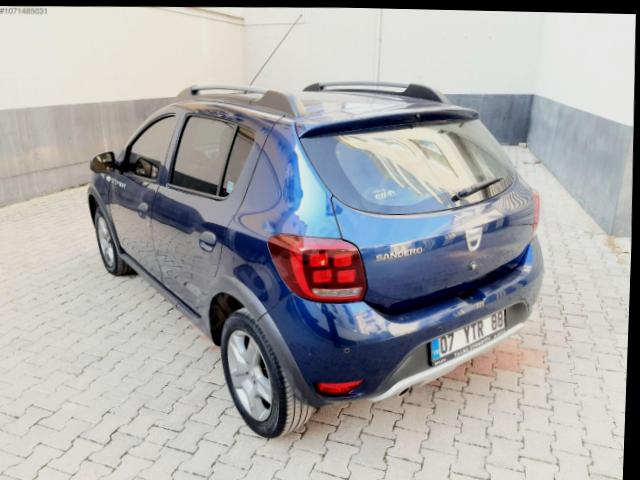plaka: (430, 309, 506, 365)
